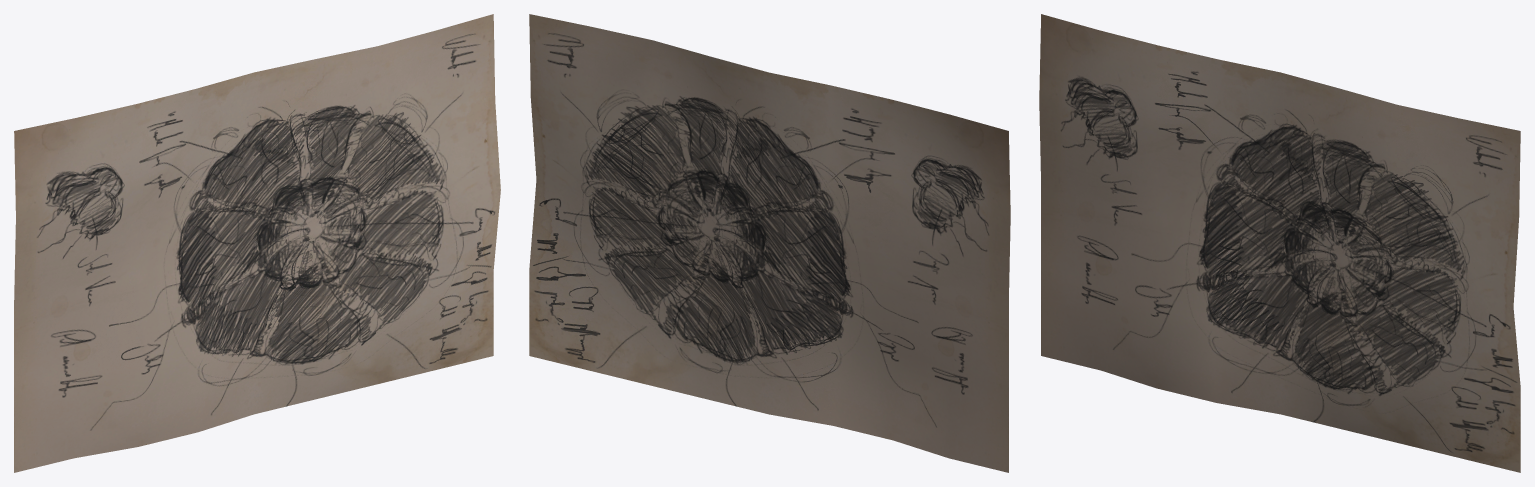
Rendered from poster_ross_drawing01.dae.
3 renders of one model, left to right at view 1: azimuth 30°, elevation 25°; view 2: azimuth 150°, elevation 25°; view 3: azimuth 330°, elevation 25°, orthographic.
Parts seen in each view (by area): view 1: pPlane1; view 2: pPlane1; view 3: pPlane1.
Boxes of the visible parts, <box> form: pPlane1: <box>14,14,500,472</box>; pPlane1: <box>529,14,1010,472</box>; pPlane1: <box>1039,14,1520,472</box>.
Bounding box in the file's own units: 0.701 × 0.4776 × 0.0239.
